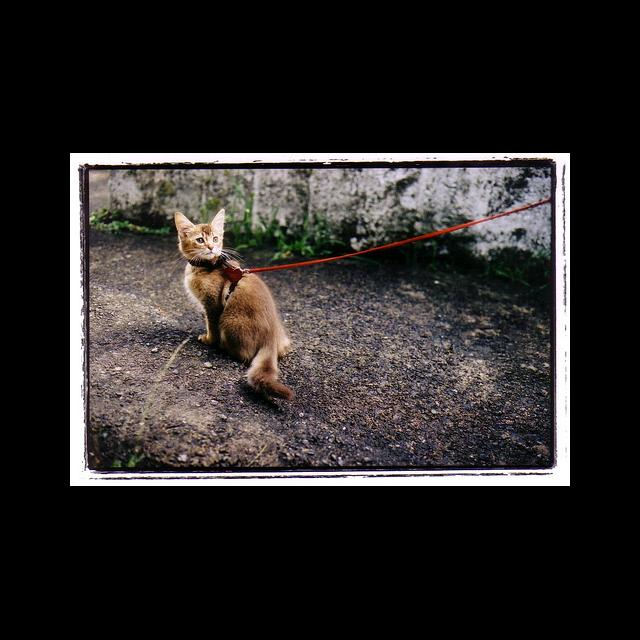animals: (177, 210, 222, 250)
